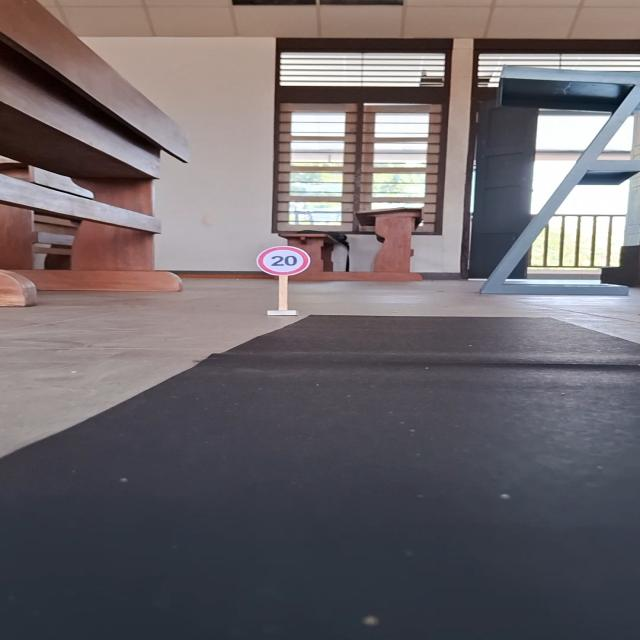Speed20: (254, 245, 314, 278)
